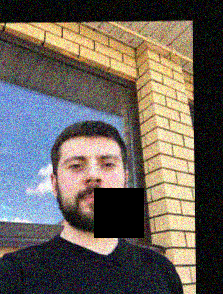without_mask: (56, 149, 126, 233)
